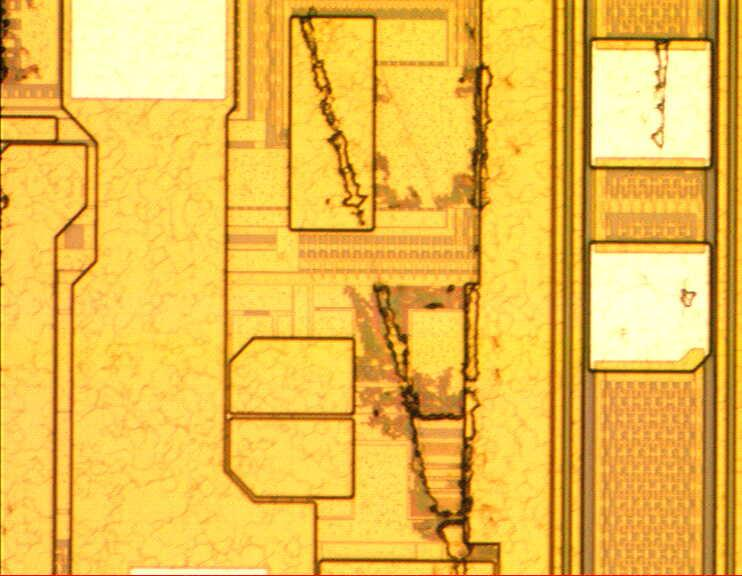SCRATCH: (1, 1, 708, 576)
